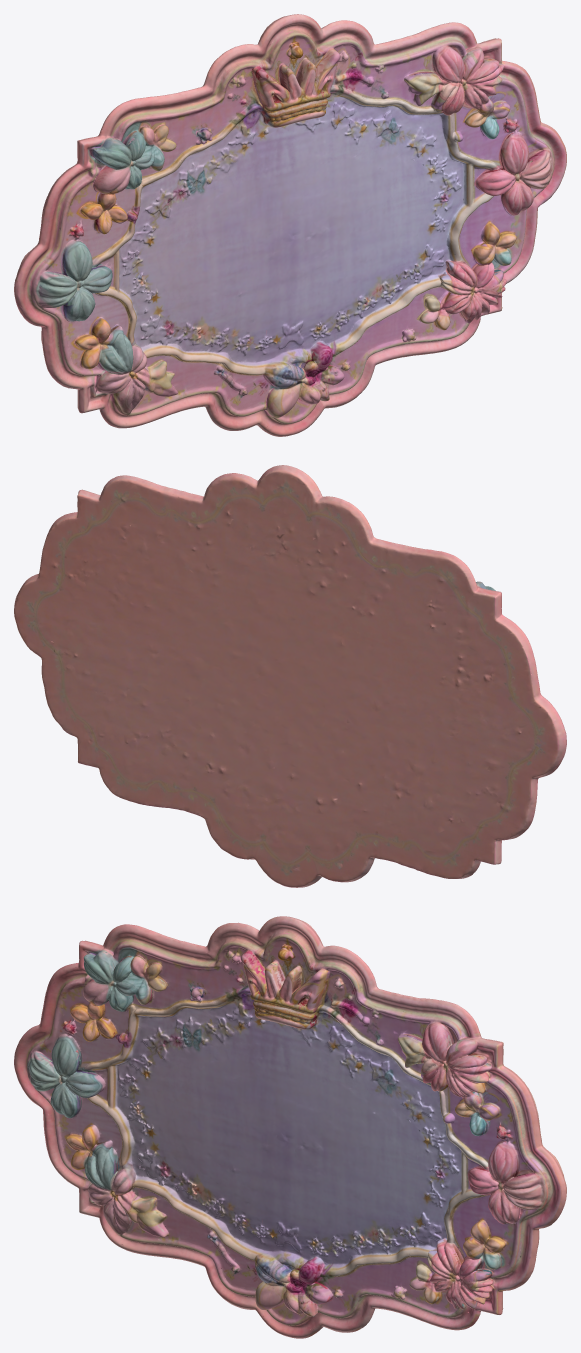
The model's file is Meshy_AI_Rugs_with_designs_of__0221052101_texture.glb.
The picture shows the model from 3 angles, top to bottom: view 1: azimuth 30°, elevation 25°; view 2: azimuth 150°, elevation 25°; view 3: azimuth 330°, elevation 25°; orthographic projection.
Bounding box in the file's own units: 1.9 × 1.38 × 0.1134.
1 material, 1 textured.
